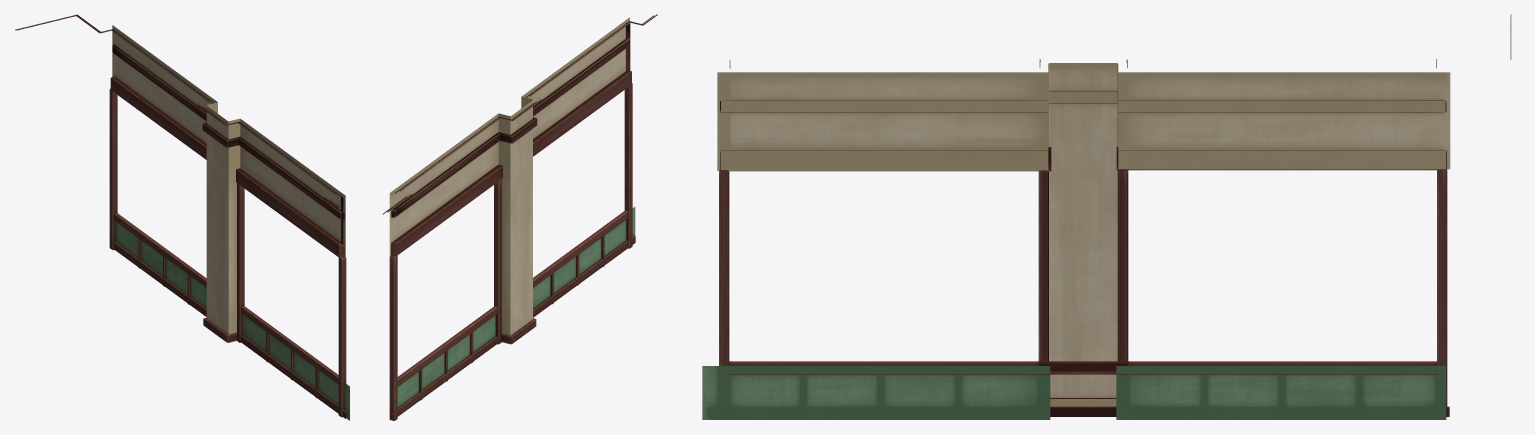
Rendered from TraditionalKoreanHouse_WallA.fbx.
The picture shows the model from 3 angles, left to right: view 1: azimuth 30°, elevation 25°; view 2: azimuth 150°, elevation 25°; view 3: azimuth 270°, elevation 25°; orthographic projection. The views are drawn at different scales.
Visible parts, largest first — view 1: TraditionalKoreanHouse_WallA; view 2: TraditionalKoreanHouse_WallA; view 3: TraditionalKoreanHouse_WallA.
Part boxes in pixels (x1,y1,x2,y2): TraditionalKoreanHouse_WallA: (15, 14, 349, 420); TraditionalKoreanHouse_WallA: (382, 14, 657, 420); TraditionalKoreanHouse_WallA: (702, 14, 1511, 419).
Size of the model in its own units: 105 by 288 by 625.
